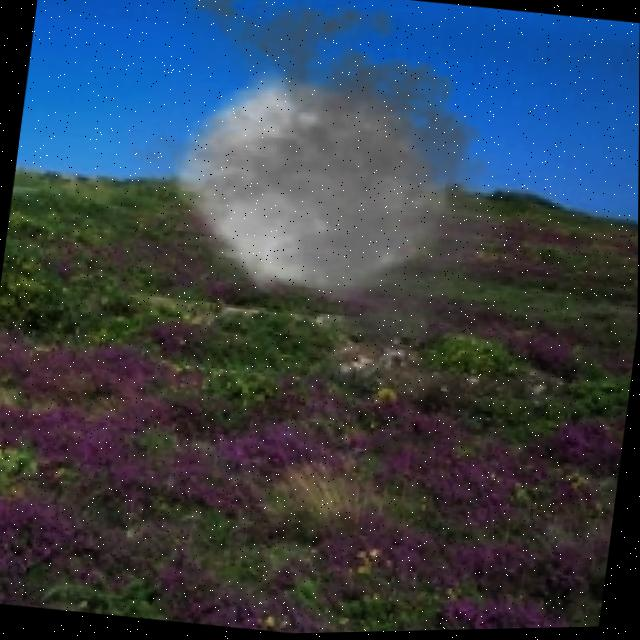Smoke: (76, 0, 554, 375)
